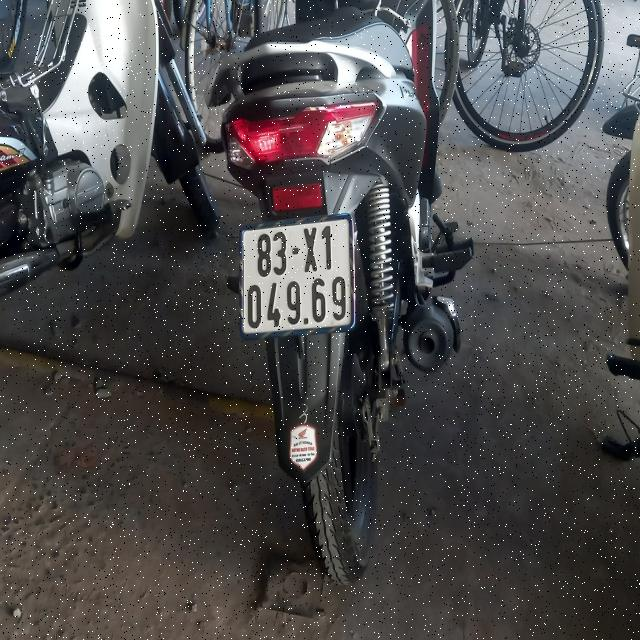0: (248, 284, 262, 329)
1: (322, 226, 333, 271)
3: (274, 232, 287, 279)
4: (267, 282, 280, 328)
6: (311, 277, 327, 323)
8: (258, 233, 271, 277)
9: (332, 276, 347, 321), (287, 281, 301, 324)
X: (303, 228, 318, 272)
